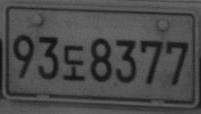3: (37, 36, 59, 81), (115, 39, 136, 83)
7: (166, 40, 190, 86), (139, 39, 163, 84)
8: (89, 37, 112, 82)
9: (11, 33, 34, 78)
도: (62, 44, 86, 83)
